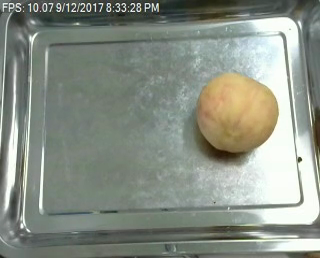Peach: (195, 72, 278, 152)
